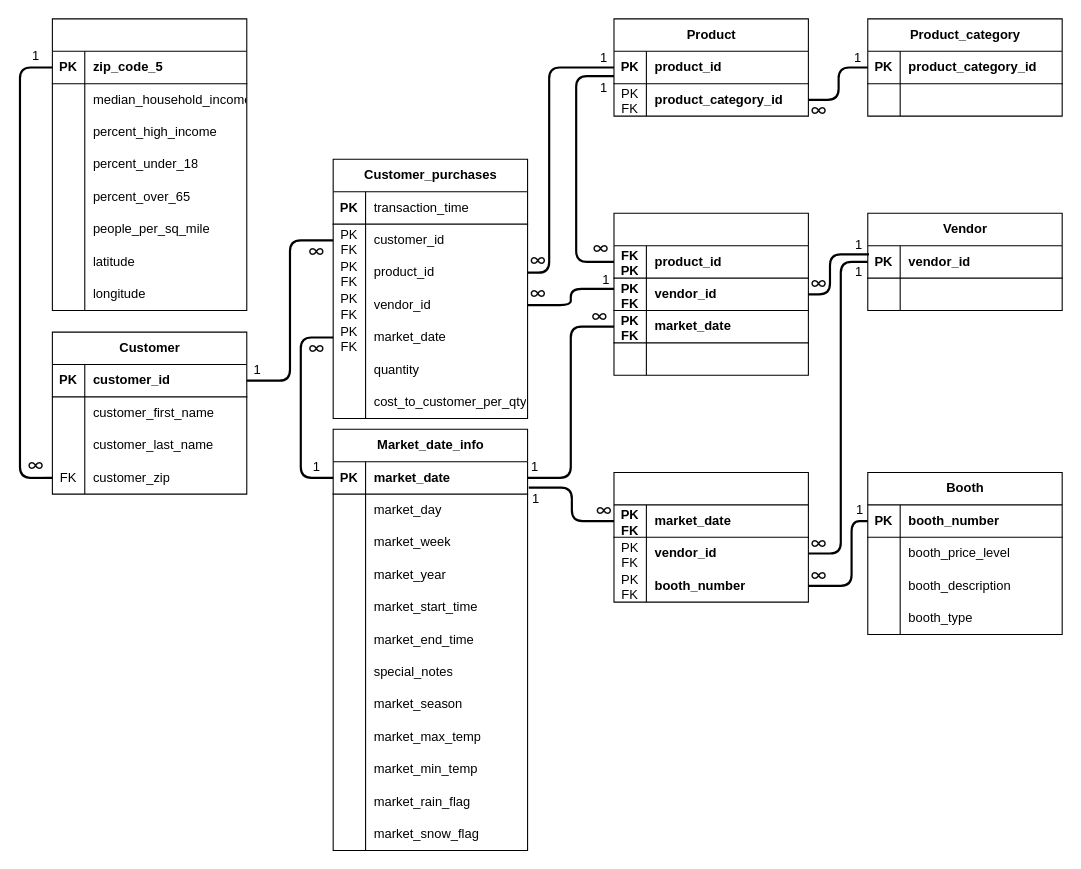
This 1081x869 diagram has some shape labels left out. The shapes that lost their labels are listed below. From the top down, each one's box as (x1, y1, x2, y2) in pixels, then its label:
(51, 18, 247, 310): Zip_data
(613, 212, 808, 375): Vendor_inventory
(613, 471, 808, 602): Vendor_booth_assignments
